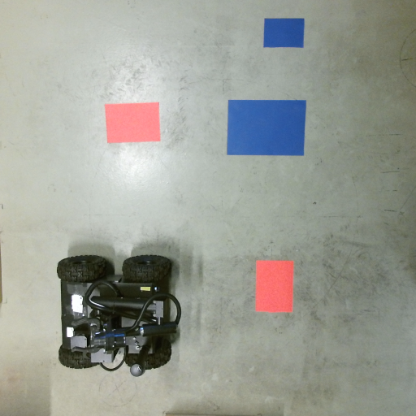Blue: (226, 100, 303, 157), (262, 18, 307, 48)
Jaguar: (55, 255, 183, 380)
Red: (253, 258, 296, 315), (103, 102, 161, 144)
